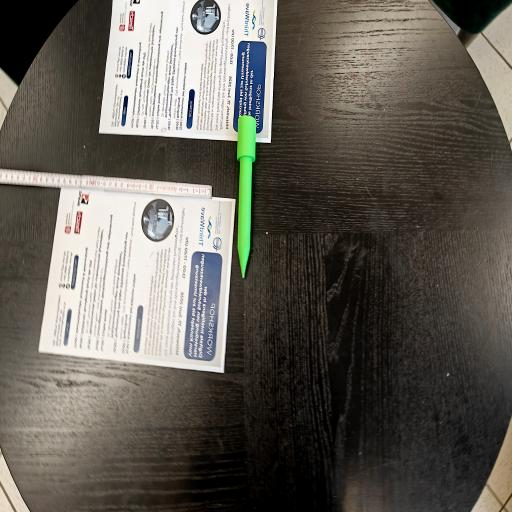Probe-Detection: (237, 115, 256, 278)
